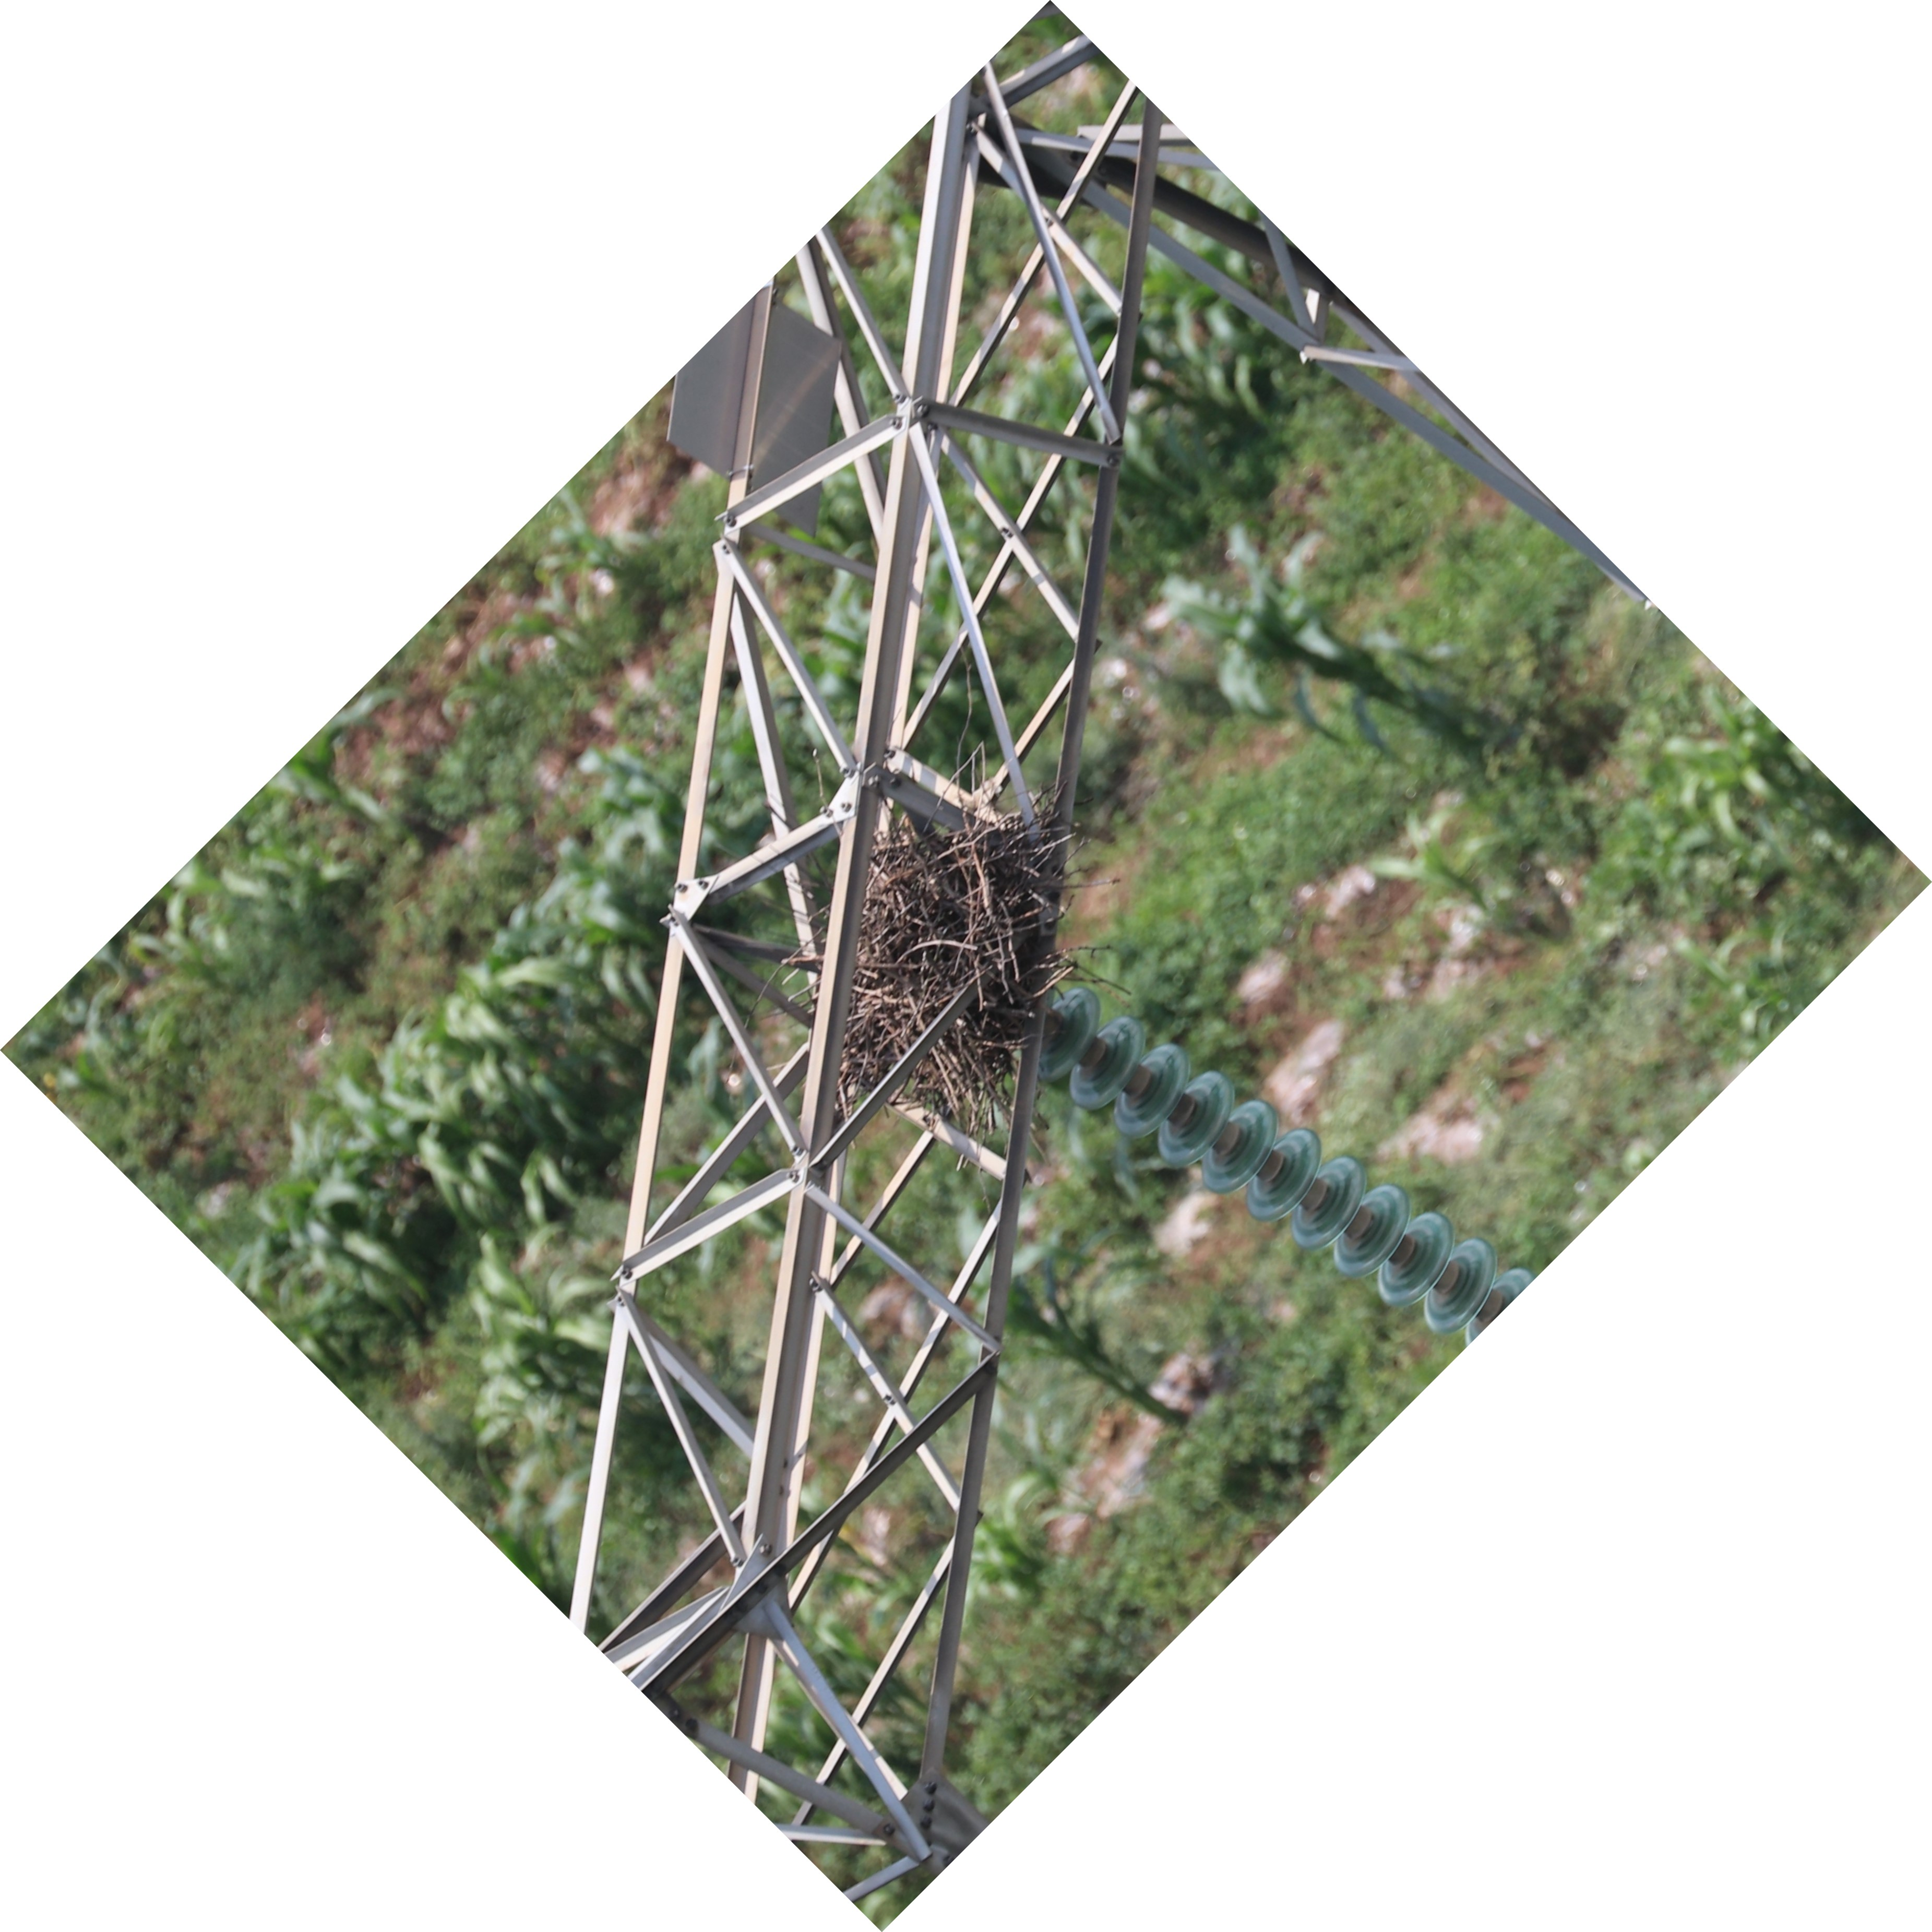niaowo: (775, 796, 1102, 1122)
